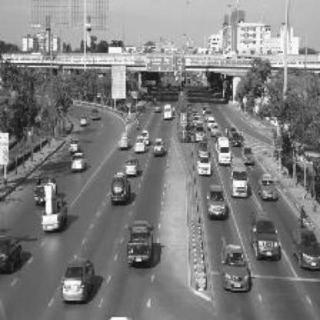other: (213, 238, 256, 294)
